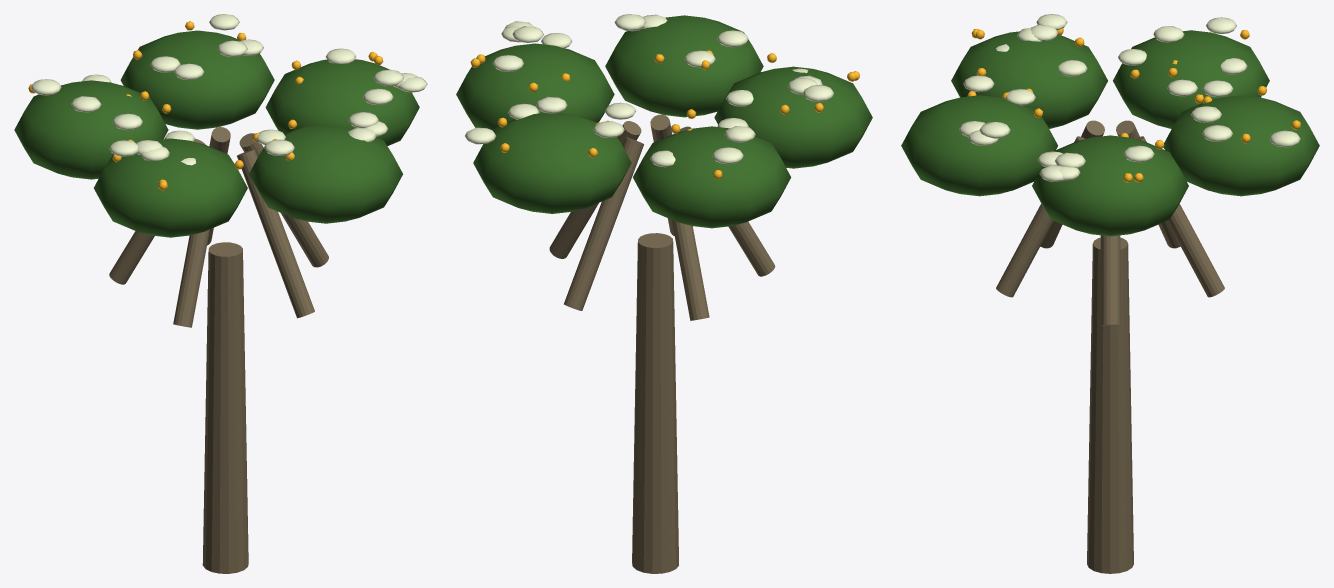
The model's file is frangipani.glb.
3 views of the same model, side by side, from view 1: azimuth 30°, elevation 25°; view 2: azimuth 150°, elevation 25°; view 3: azimuth 270°, elevation 25° (orthographic). The views are drawn at different scales.
Visible parts, largest first — view 1: Cone; view 2: Cone; view 3: Cone.
Part boxes in pixels (bbox=[...]): Cone: bbox=[14, 14, 427, 573]; Cone: bbox=[456, 14, 872, 573]; Cone: bbox=[901, 14, 1319, 573].
Size of the model in its own units: 0.7626 by 1 by 0.7866.
Materials: 1 (1 with a texture image).
